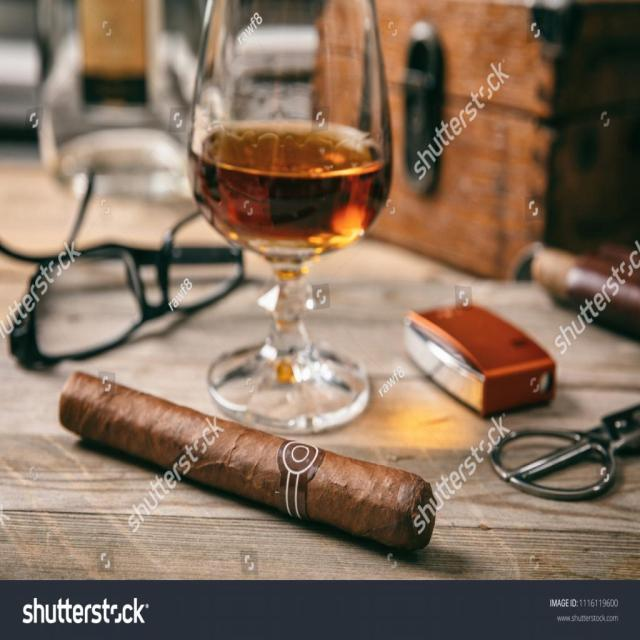smoking: (46, 368, 448, 558)
